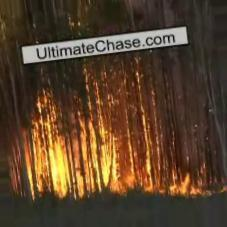fire: (24, 109, 121, 193), (136, 154, 196, 197)
